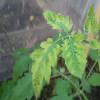Tomato leaf yellow virus: (31, 37, 61, 99), (62, 36, 88, 85), (38, 8, 72, 34), (86, 2, 99, 33), (83, 16, 91, 34)
